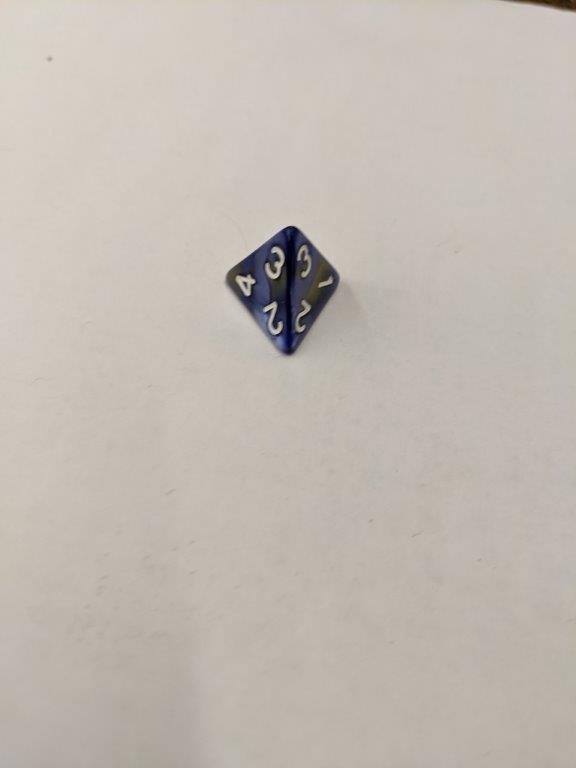d4-3: (223, 223, 340, 357)
